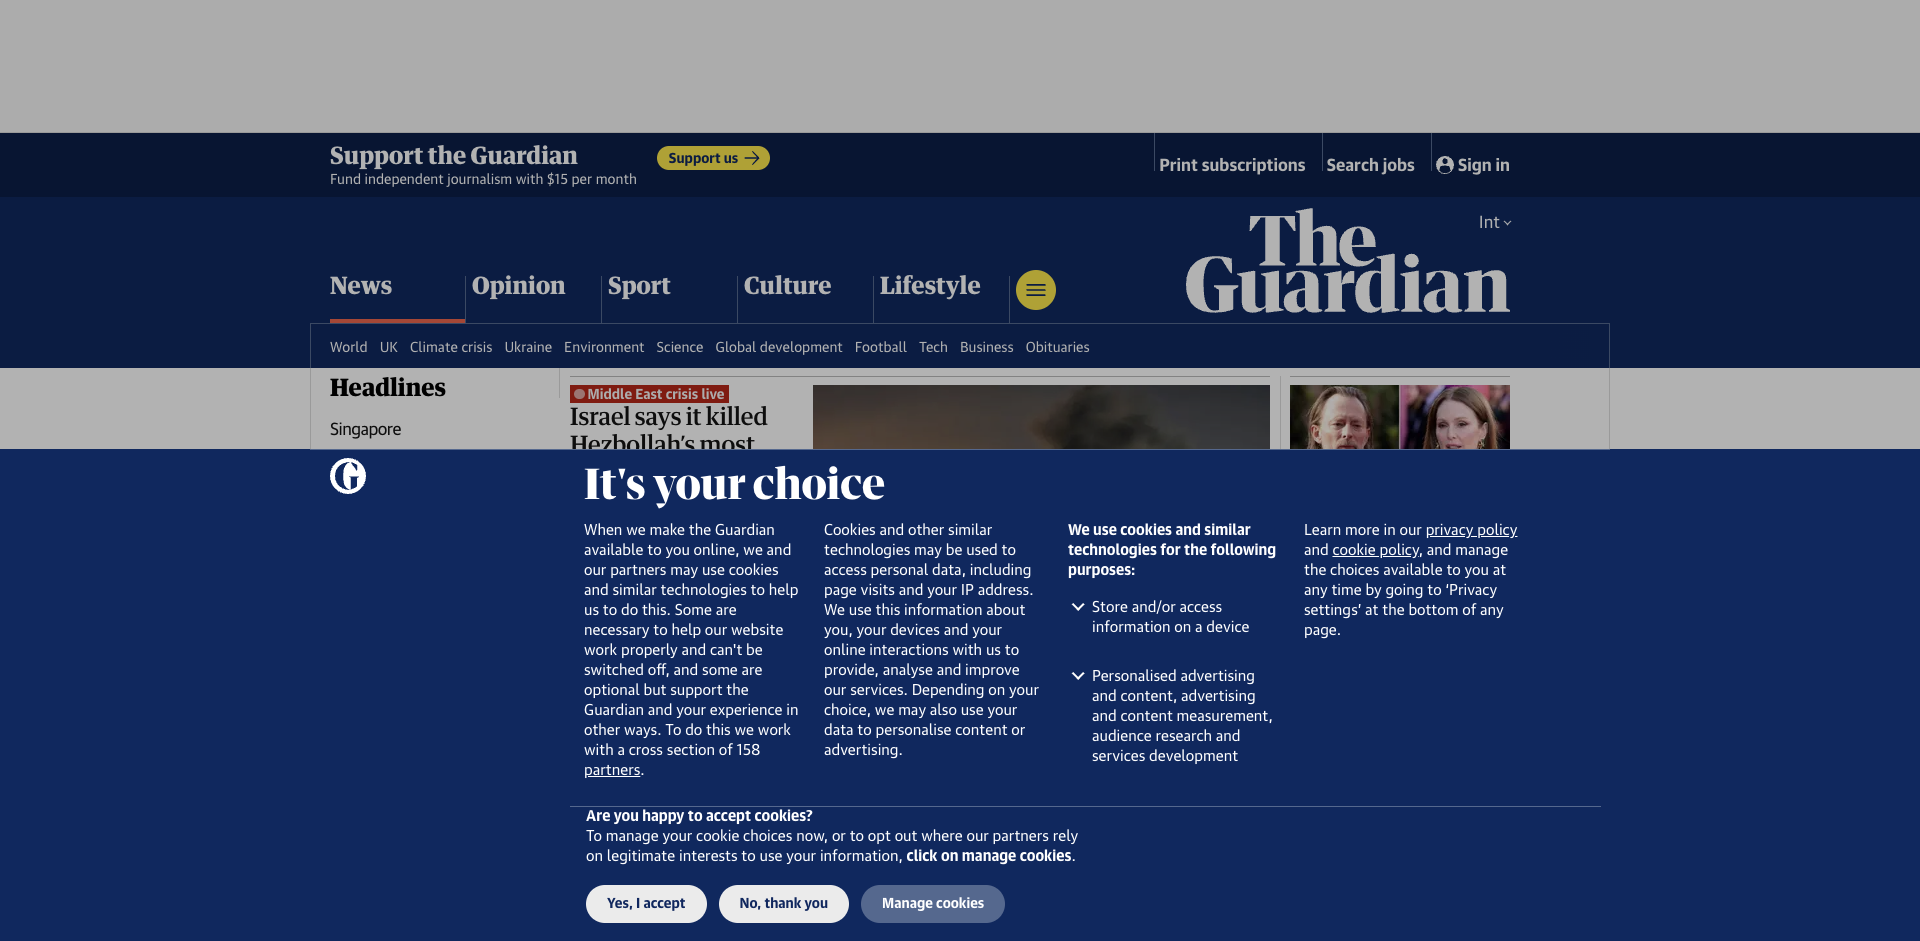button: (1016, 270, 1056, 310), (1479, 205, 1510, 233)
link: (571, 376, 1270, 729), (571, 741, 1030, 941), (1291, 376, 1510, 729), (1051, 741, 1270, 941), (1187, 205, 1510, 316), (1291, 741, 1510, 850), (1291, 863, 1510, 941), (571, 674, 790, 729), (811, 674, 1030, 729), (1051, 674, 1270, 729), (1155, 134, 1310, 197), (331, 272, 467, 323), (467, 272, 602, 323), (602, 272, 738, 323), (738, 272, 874, 323), (874, 272, 1010, 323), (1322, 134, 1419, 197), (331, 646, 550, 669), (1431, 134, 1510, 197), (656, 146, 770, 170), (715, 338, 847, 355), (410, 338, 496, 355), (564, 338, 649, 355), (1026, 338, 1093, 355), (960, 338, 1018, 355), (855, 338, 911, 355), (504, 338, 556, 355), (656, 338, 708, 355), (331, 338, 371, 355), (918, 338, 951, 355), (380, 338, 402, 355)
